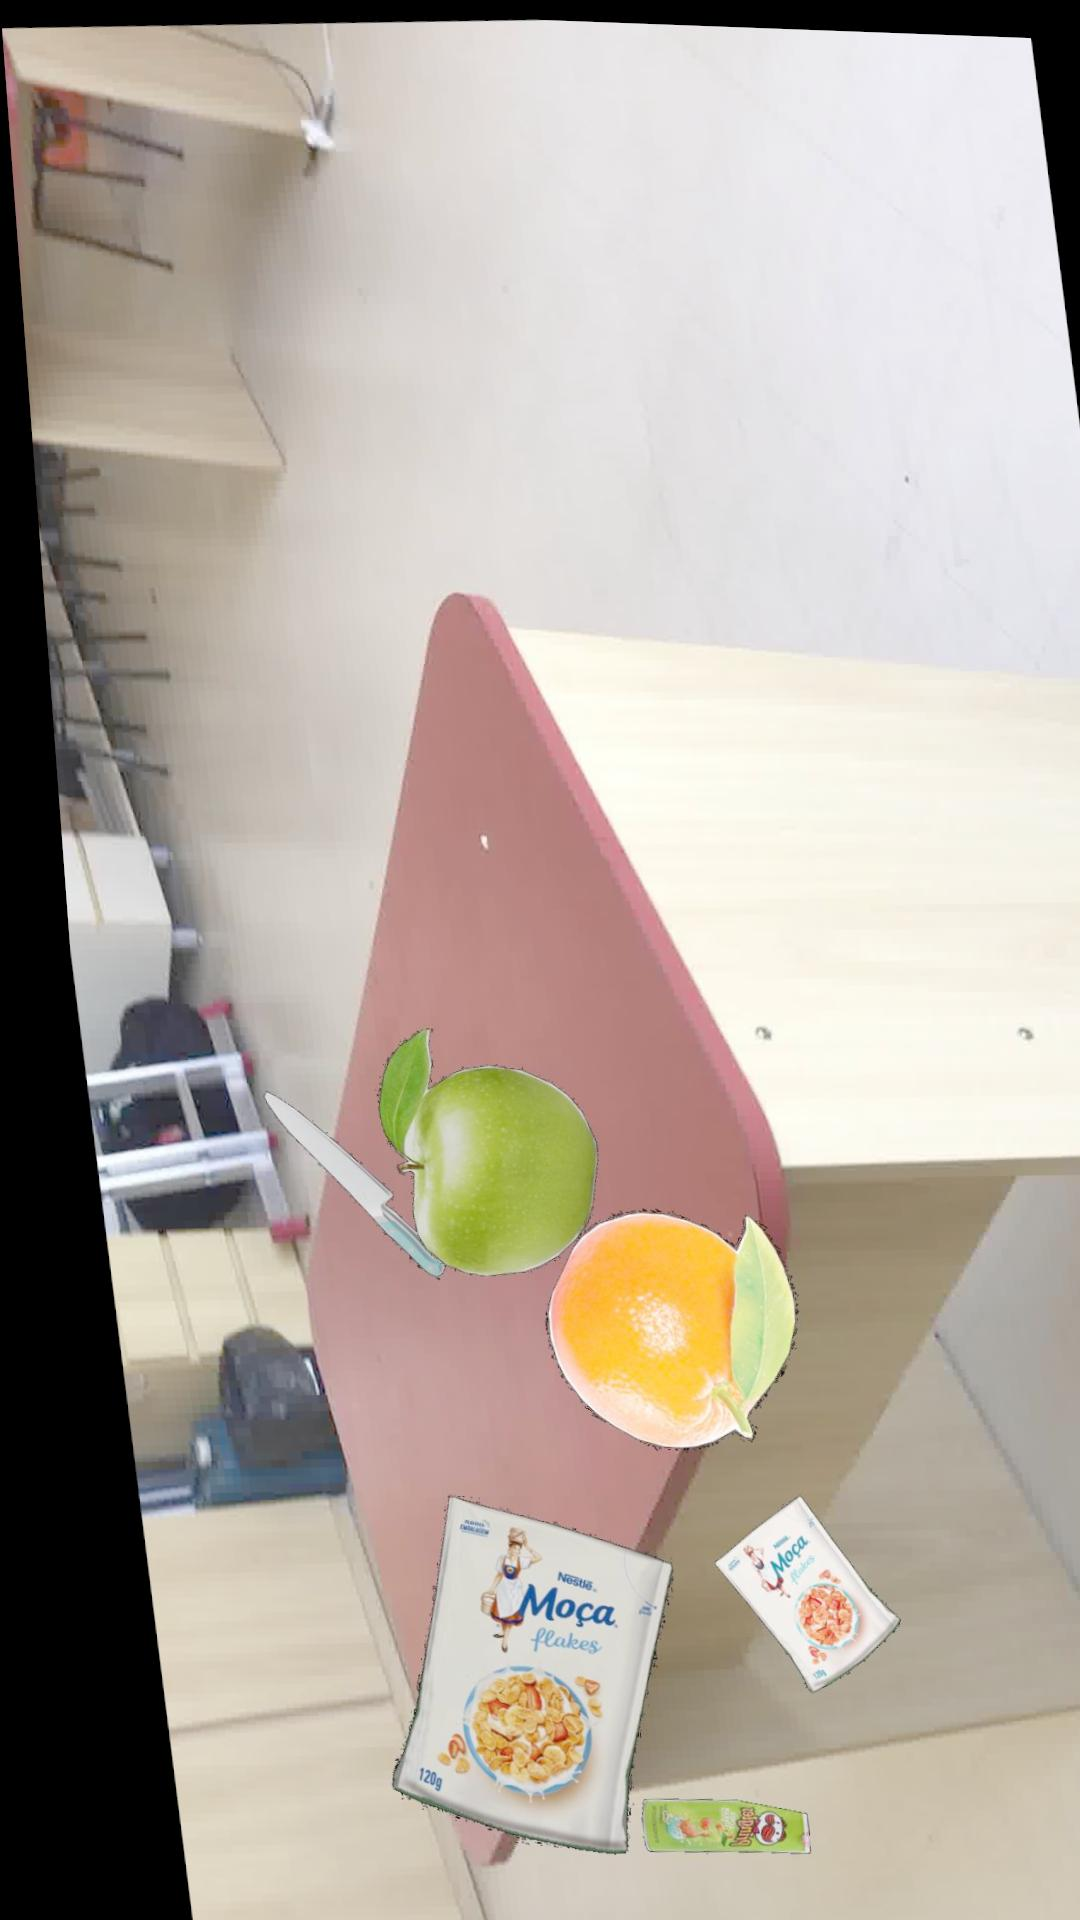corn flakes: (364, 1490, 649, 1847), (690, 1487, 876, 1685)
green apple: (360, 1023, 580, 1270)
knife: (245, 1087, 426, 1271)
orange: (524, 1203, 778, 1443)
pringles: (613, 1792, 782, 1846)
